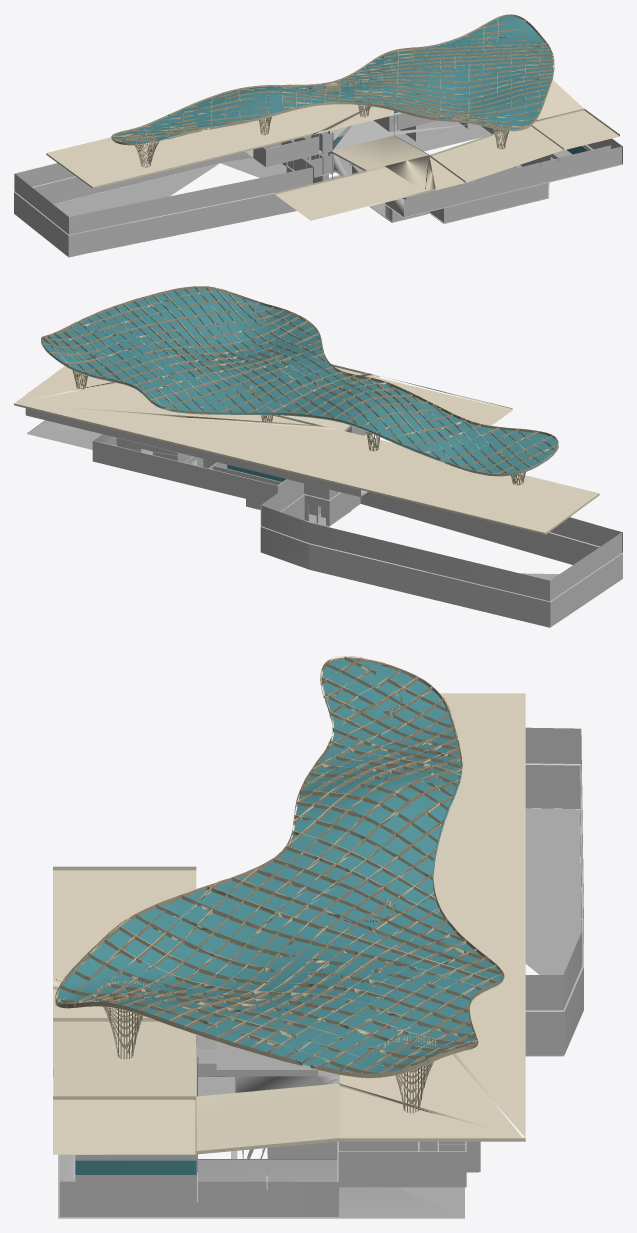
File: Aquarium.glb
3 renders of one model, top to bottom at view 1: azimuth 30°, elevation 25°; view 2: azimuth 150°, elevation 25°; view 3: azimuth 270°, elevation 25°, orthographic. The views are drawn at different scales.
Bounding box in the file's own units: 143 × 31.4 × 68.15.
